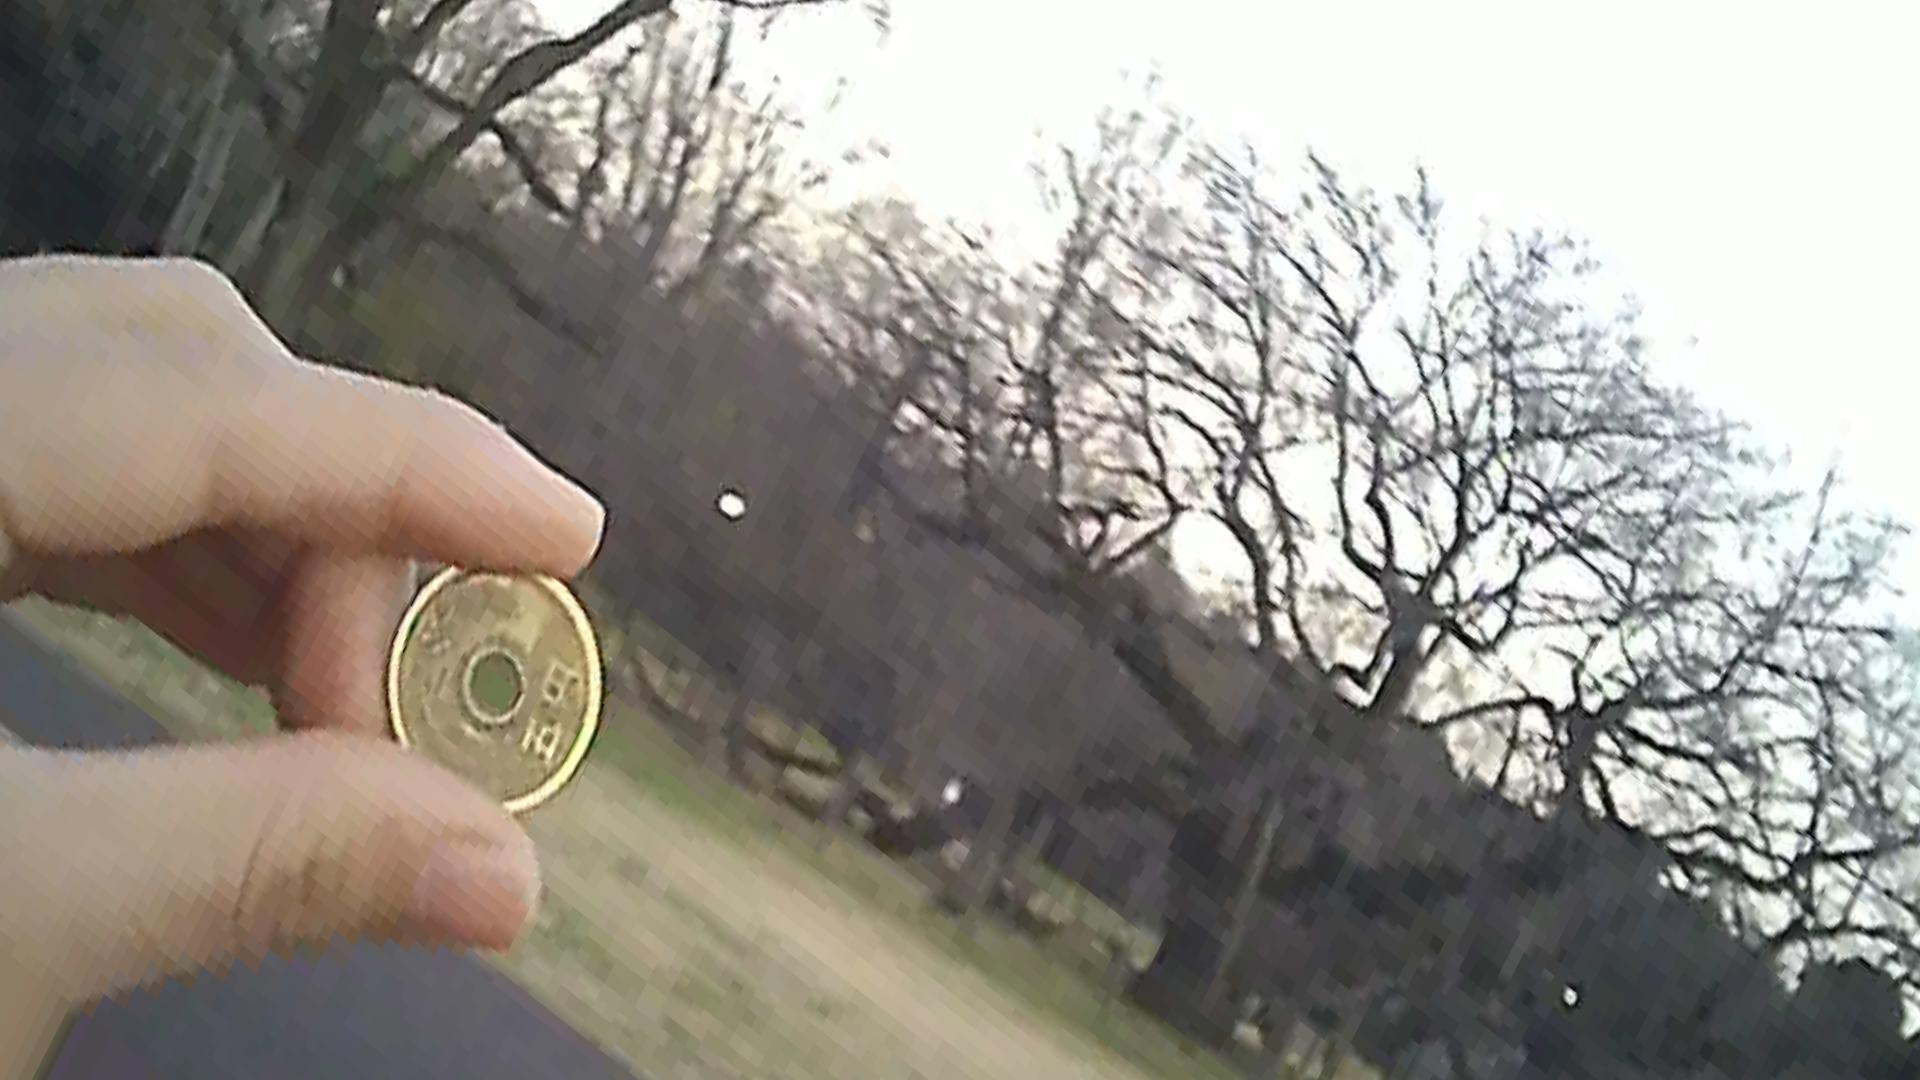5 Yen: (373, 547, 603, 825)
